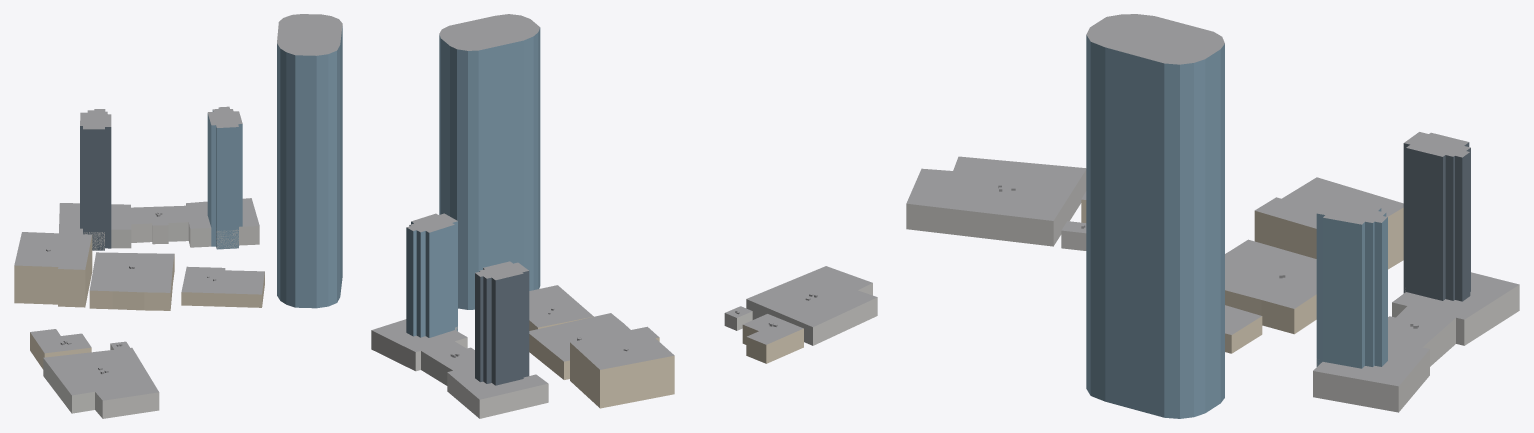
The model's file is building_-3_4.glb.
3 renders of one model, left to right at view 1: azimuth 30°, elevation 25°; view 2: azimuth 150°, elevation 25°; view 3: azimuth 270°, elevation 25°, orthographic. The views are drawn at different scales.
Visible parts, largest first — view 1: glass_blue, roof, sandstone, concrete_light, glass_dark; view 2: glass_blue, roof, sandstone, concrete_light, glass_dark; view 3: glass_blue, roof, concrete_light, glass_dark, sandstone.
Part boxes in pixels (x1,y1,x2,y2): glass_blue: (207,26,342,308); roof: (14,14,342,400); sandstone: (14,235,264,369); concrete_light: (43,204,259,418); glass_dark: (80,126,111,250); glass_blue: (406,27,540,337); roof: (371,14,877,399); sandstone: (529,316,803,408); concrete_light: (371,283,877,418); glass_dark: (475,268,529,385); glass_blue: (1086,35,1387,418); roof: (906,14,1519,386); concrete_light: (906,170,1519,412); glass_dark: (1403,142,1470,301); sandstone: (1081,199,1403,353).
Bounding box in the file's own units: 298 × 208 × 326.
